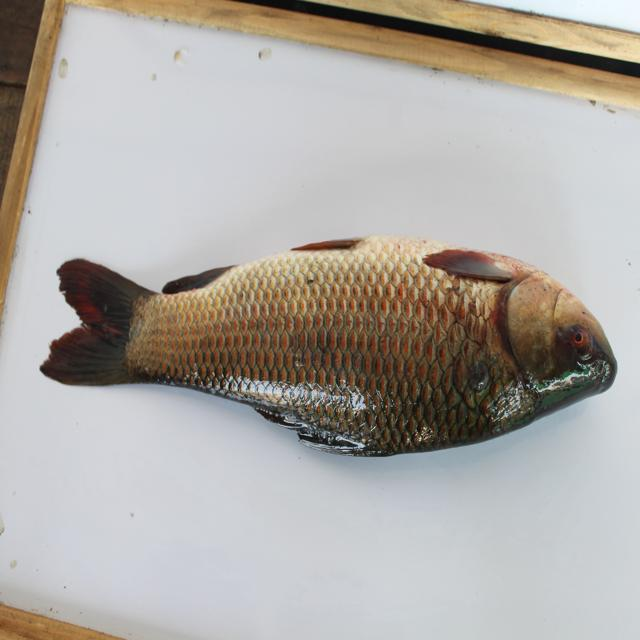Grass Carp: (44, 232, 621, 460)
